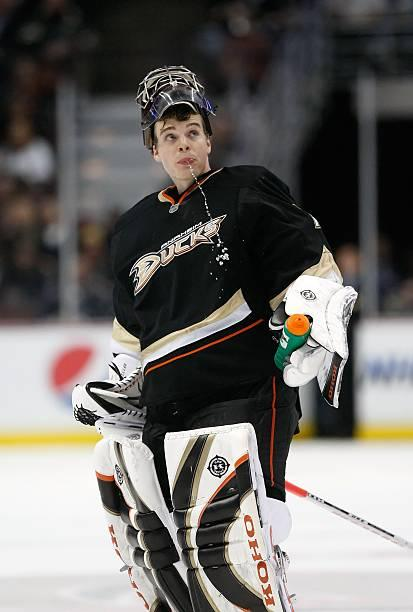Spitting: (79, 53, 297, 216)
